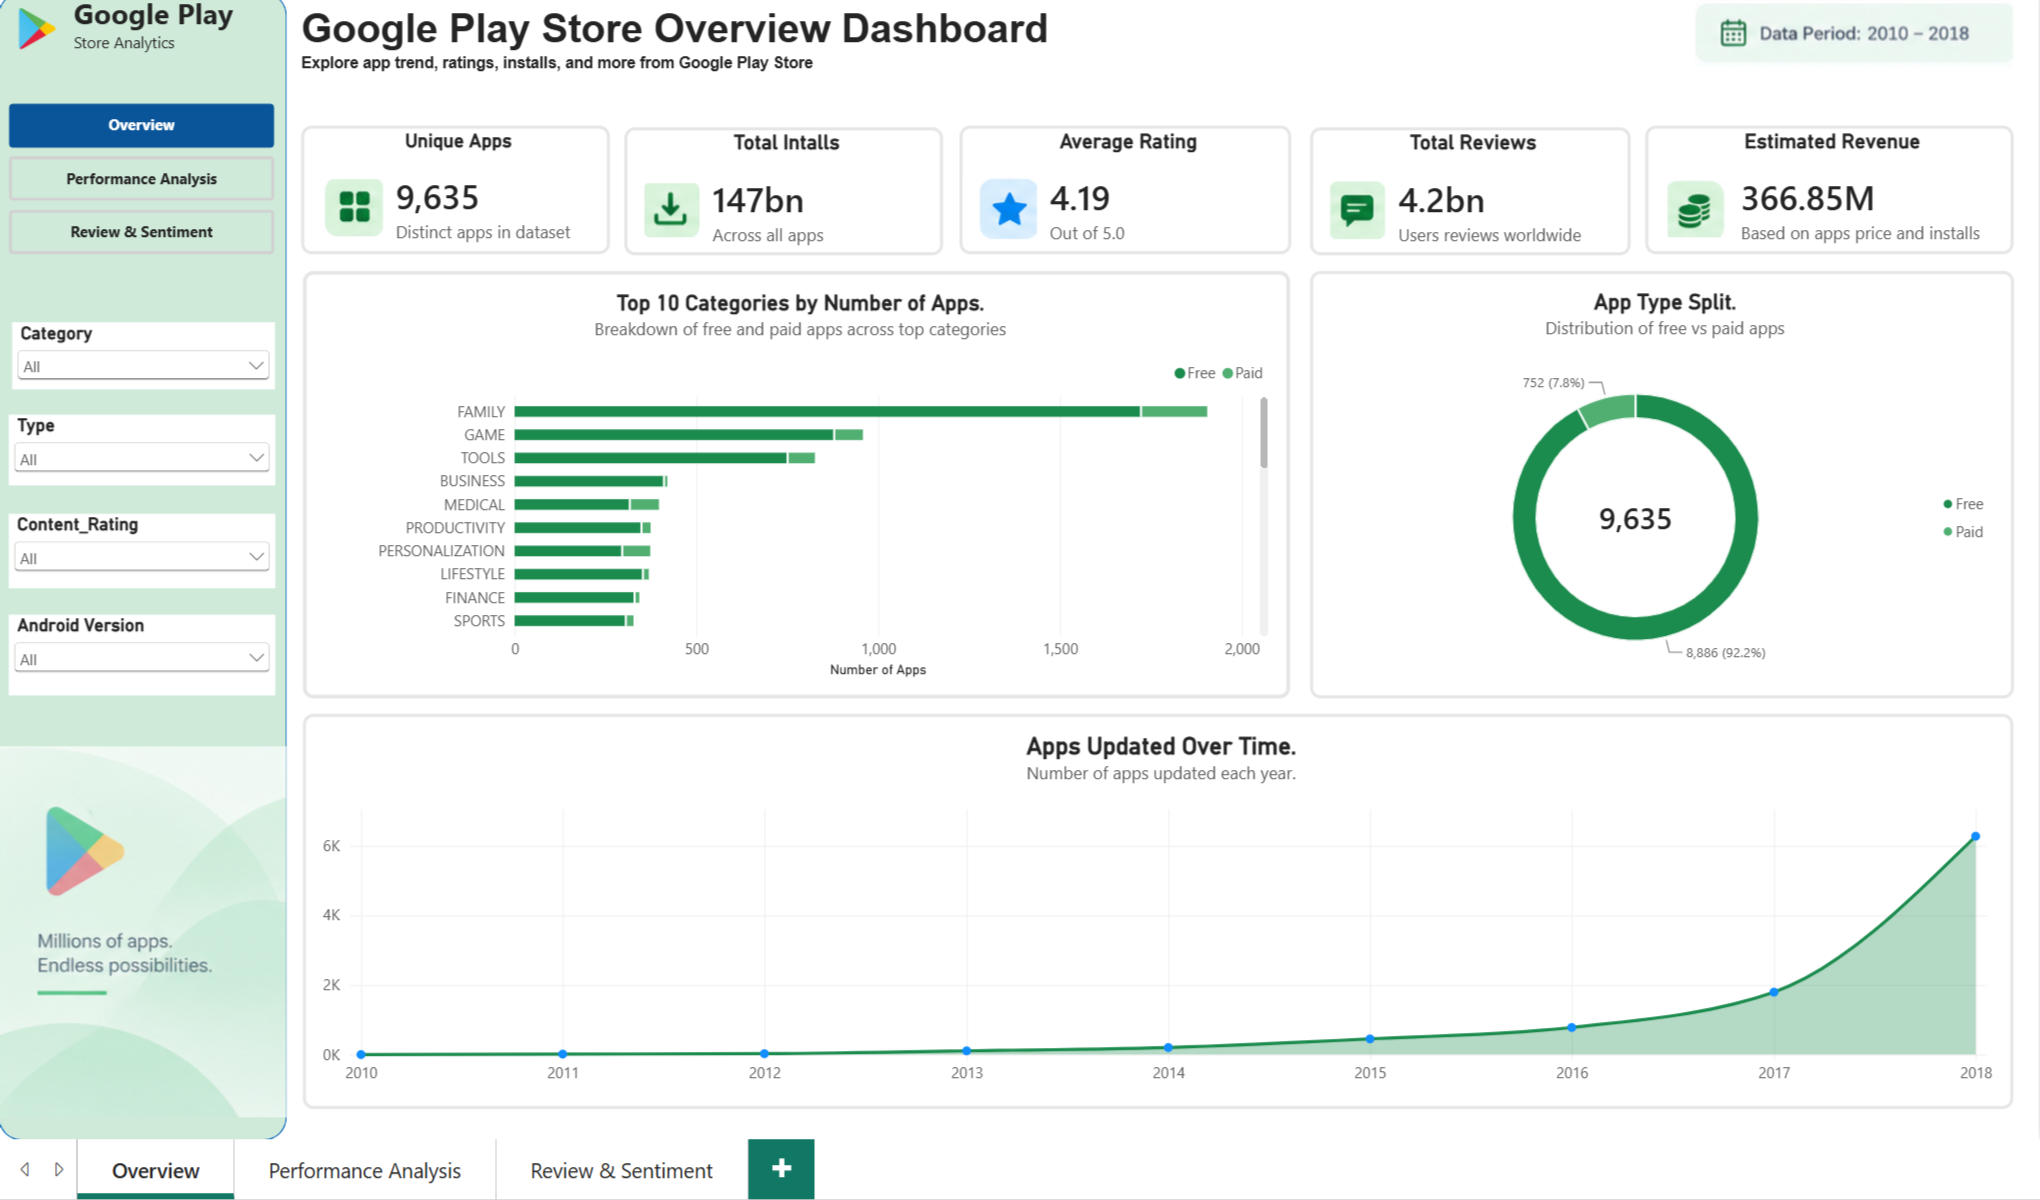

The dashboard page shown, as its layout file describes it:
{"tool":"powerbi","page":{"name":"Overview","canvas":[1920,1080],"ordinal":0},"visuals":[{"type":"shape","box":[0,0,271.4,1080.7],"z":0},{"type":"image","box":[12.7,12.7,47.6,42.8],"z":1000},{"type":"textbox","box":[71.4,1.6,174.6,66.6],"z":2000},{"type":"textbox","box":[285.6,12.7,918.8,92],"z":3000},{"type":"cardVisual","title":"Unique Apps","fields":{"Data":["Google_Play_Store_Apps.Total Apps"]},"box":[285.1,126.3,290.6,120.9],"z":4000},{"type":"cardVisual","title":"Estimated Revenue","fields":{"Data":["Google_Play_Store_Apps.Estimated Revenue"]},"box":[1550.2,126.3,346.5,120.9],"z":5000},{"type":"cardVisual","title":"Total Reviews","fields":{"Data":["Google_Play_Store_Apps.Total Reviews"]},"box":[1234.6,127,301.5,120.6],"z":6000},{"type":"cardVisual","title":"Total Intalls","fields":{"Data":["Google_Play_Store_Apps.Total Installs"]},"box":[588.7,127,299.9,120.6],"z":7000},{"type":"cardVisual","title":"Average Rating","fields":{"Data":["Google_Play_Store_Apps.Average Rating"]},"box":[904.1,126.3,312.2,120.9],"z":8000},{"type":"barChart","title":"Top 10 Categories by Number of Apps.","fields":{"Category":["Google_Play_Store_Apps.Category"],"Series":["Google_Play_Store_Apps.Type"],"Y":["Google_Play_Store_Apps.Total Apps"]},"box":[286.9,261.7,929.4,402.4],"z":9000},{"type":"donutChart","title":"App Type Split.","fields":{"Category":["Google_Play_Store_Apps.Type"],"Y":["Google_Play_Store_Apps.Total Apps"]},"box":[1234.4,261.7,662.3,402.4],"z":10000},{"type":"lineChart","title":"Apps Updated Over Time.","fields":{"Category":["Google_Play_Store_Apps.Last_Updated.Variation.Date Hierarchy.Year","Google_Play_Store_Apps.Last_Updated.Variation.Date Hierarchy.Quarter","Google_Play_Store_Apps.Last_Updated.Variation.Date Hierarchy.Month","Google_Play_Store_Apps.Last_Updated.Variation.Date Hierarchy.Day"],"Y":["Google_Play_Store_Apps.Total Apps"]},"box":[286.9,678.6,1609.8,371.8],"z":11000},{"type":"image","box":[0,691.2,270.7,388],"z":12000},{"type":"slicer","fields":{"Values":["Google_Play_Store_Apps.Category"]},"box":[12.6,310.4,247.2,63.2],"z":14000},{"type":"slicer","fields":{"Values":["Google_Play_Store_Apps.Type"]},"box":[9,397,250.8,66.8],"z":15000},{"type":"slicer","fields":{"Values":["Google_Play_Store_Apps.Content_Rating"]},"box":[9,490.9,250.8,70.4],"z":16000},{"type":"slicer","fields":{"Values":["Google_Play_Store_Apps.Android_Ver"]},"box":[9,586.5,250.8,75.8],"z":17000},{"type":"image","box":[1597.1,0,299.6,81.2],"z":18000},{"type":"pageNavigator","box":[9,104.7,250.8,142.6],"z":18005}]}

Visuals, with their boxes on the page's 1920x1080 design canvas (x1, y1, x2, y2). These are canvas units, not pixel positions in the 2040x1200 screenshot, which may show the page scaled, cropped or inside an application window:
shape: [left=0, top=0, right=271, bottom=1081]
image: [left=13, top=13, right=60, bottom=56]
textbox: [left=71, top=2, right=246, bottom=68]
textbox: [left=286, top=13, right=1204, bottom=105]
"Unique Apps" cardVisual: [left=285, top=126, right=576, bottom=247]
"Estimated Revenue" cardVisual: [left=1550, top=126, right=1897, bottom=247]
"Total Reviews" cardVisual: [left=1235, top=127, right=1536, bottom=248]
"Total Intalls" cardVisual: [left=589, top=127, right=889, bottom=248]
"Average Rating" cardVisual: [left=904, top=126, right=1216, bottom=247]
"Top 10 Categories by Number of Apps." barChart: [left=287, top=262, right=1216, bottom=664]
"App Type Split." donutChart: [left=1234, top=262, right=1897, bottom=664]
"Apps Updated Over Time." lineChart: [left=287, top=679, right=1897, bottom=1050]
image: [left=0, top=691, right=271, bottom=1079]
slicer - Google_Play_Store_Apps.Category: [left=13, top=310, right=260, bottom=374]
slicer - Google_Play_Store_Apps.Type: [left=9, top=397, right=260, bottom=464]
slicer - Google_Play_Store_Apps.Content_Rating: [left=9, top=491, right=260, bottom=561]
slicer - Google_Play_Store_Apps.Android_Ver: [left=9, top=586, right=260, bottom=662]
image: [left=1597, top=0, right=1897, bottom=81]
pageNavigator: [left=9, top=105, right=260, bottom=247]
